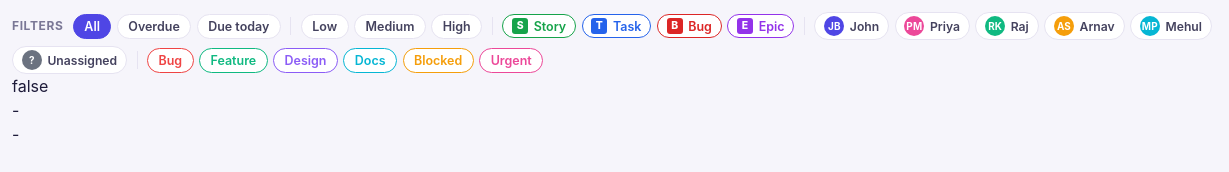
Test: FilterBar › priority chips are mutually exclusive
Click the button "High" at (457, 26), box [431,14,482,39]
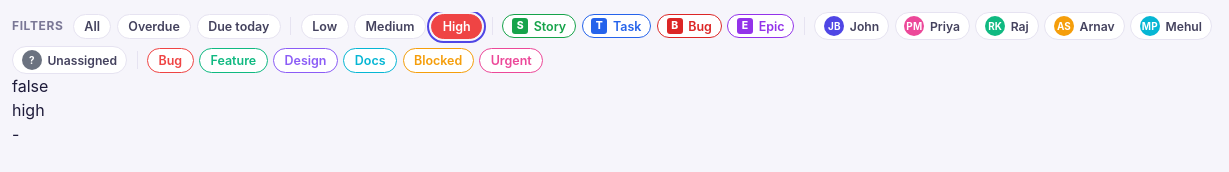
Now the text with test id "priority" reads "high", box [12,100,45,120]
Click the button "Low" at (325, 26), box [301,14,349,39]
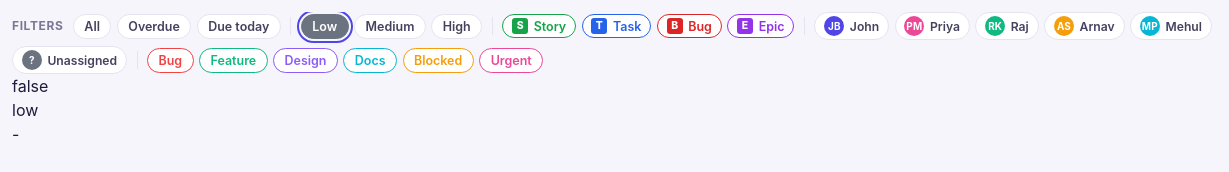
Now the text with test id "priority" reads "low", box [12,100,38,120]
